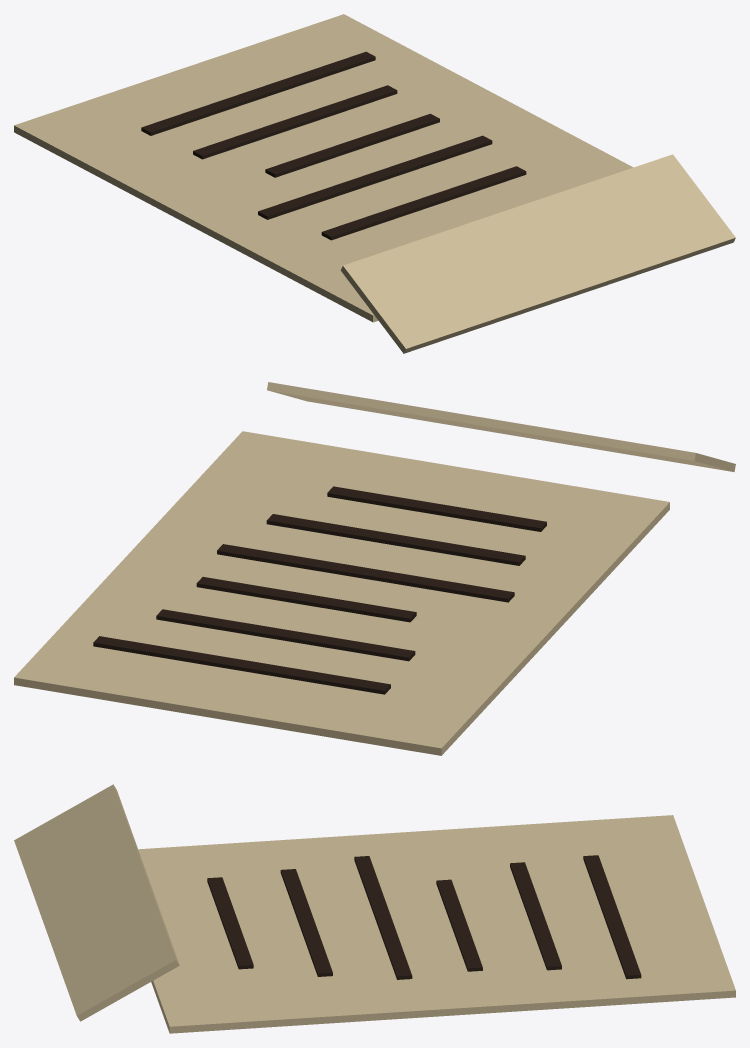
The model's file is TownNote.glb.
The picture shows the model from 3 angles, top to bottom: view 1: azimuth 30°, elevation 25°; view 2: azimuth 150°, elevation 25°; view 3: azimuth 270°, elevation 25°; orthographic projection. The views are drawn at different scales.
Parts seen in each view (by area): view 1: TownNote.001; view 2: TownNote.001; view 3: TownNote.001.
Boxes of the visible parts, left/top/right/bottom form: TownNote.001: left=14, top=14, right=735, bottom=353; TownNote.001: left=14, top=382, right=735, bottom=755; TownNote.001: left=14, top=784, right=735, bottom=1033.
Bounding box in the file's own units: 0.2624 × 0.0351 × 0.3782.
